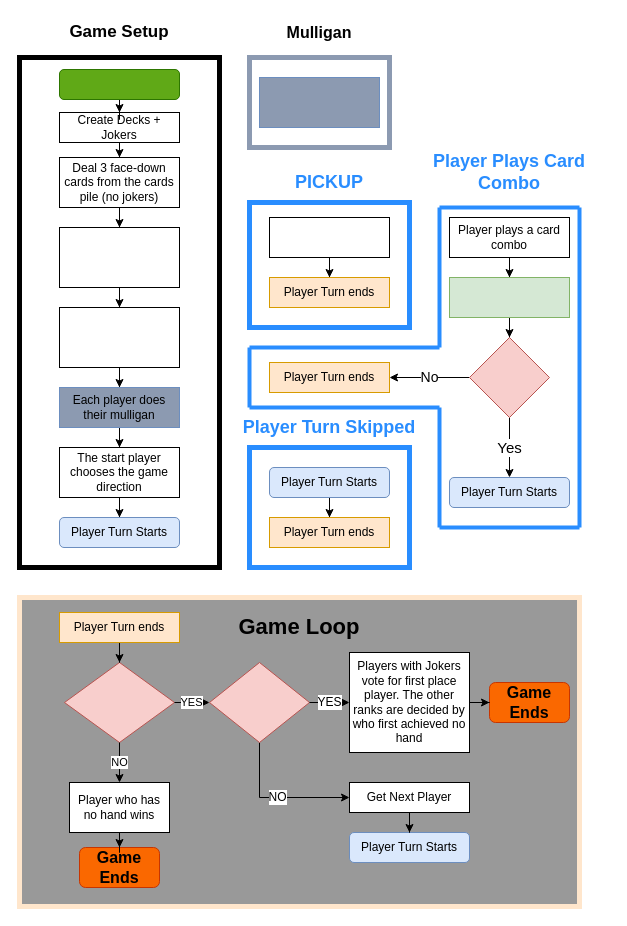
Some shapes in this 627 by 926 pixel diagram are drawn without their labels. The centre of each missing label's shape, as x and y in pixels:
Cards burned?: [509,377]
Choose player who starts: [119,337]
Deal the 3 face-up cards and the 3 in hand, for each player: [119,257]
Game Starts: [119,84]
Jokers in play?: [119,702]
Player picks up all of played pile: [329,237]
Players have 30s to swap their face-up cards with 3 in hand: [319,102]
The combo resolves: [509,297]
Two players have no hand?: [259,702]
